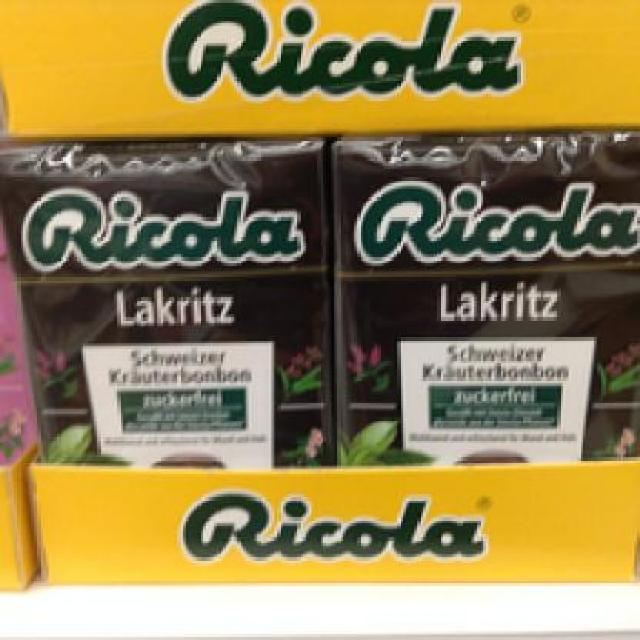Candy: (317, 126, 637, 523), (0, 136, 332, 512)
